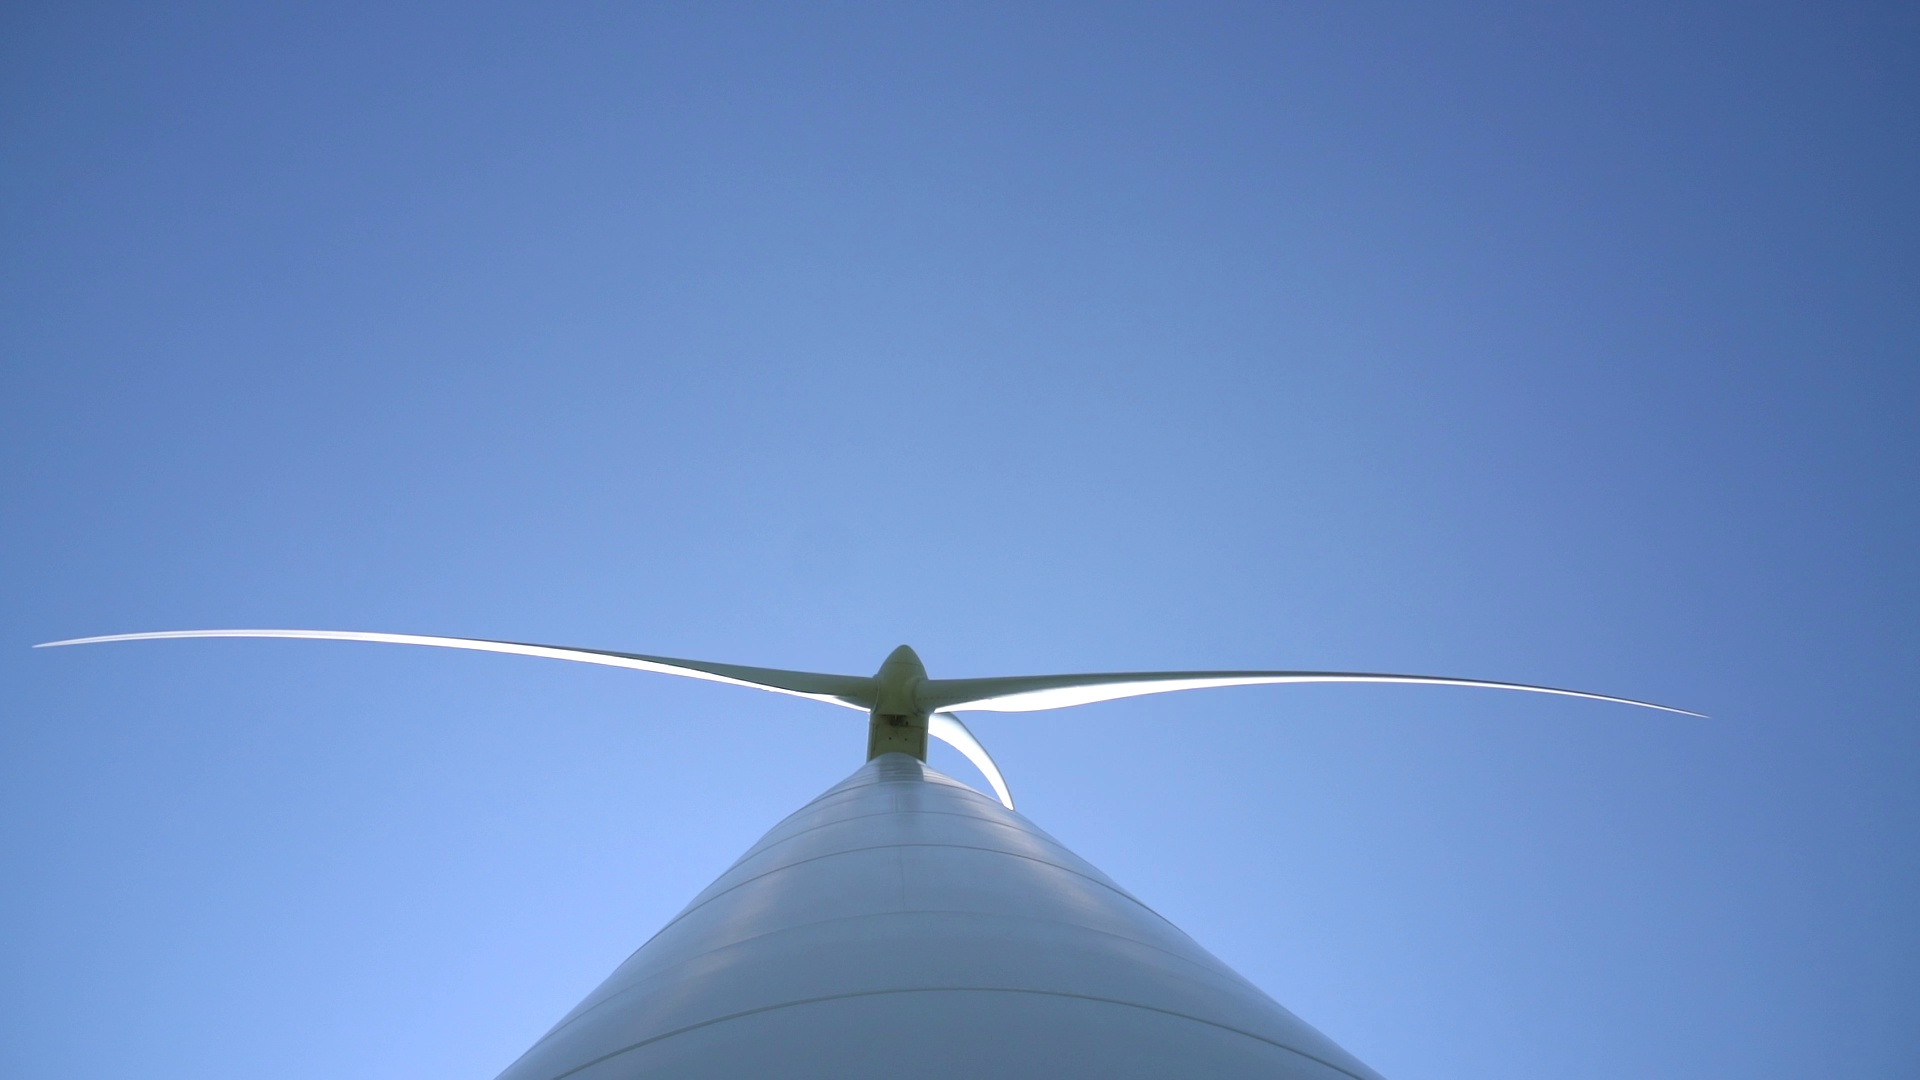turbine: (29, 596, 877, 746), (931, 641, 1754, 733), (926, 704, 1031, 807)
